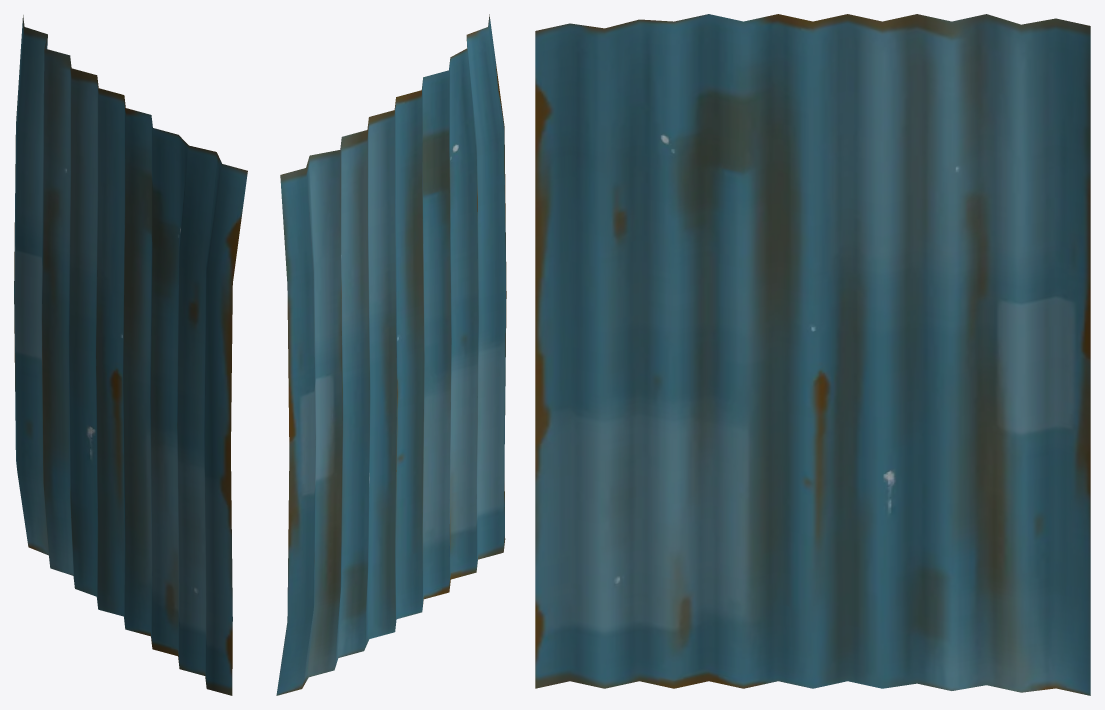
The picture shows the model from 3 angles, left to right: view 1: azimuth 30°, elevation 25°; view 2: azimuth 150°, elevation 25°; view 3: azimuth 270°, elevation 25°; orthographic projection. The views are drawn at different scales.
Visible parts, largest first — view 1: body0_model0_lod0_mesh0; view 2: body0_model0_lod0_mesh0; view 3: body0_model0_lod0_mesh0.
Boxes of the visible parts, left/top/right/bottom form: body0_model0_lod0_mesh0: left=14, top=15, right=247, bottom=695; body0_model0_lod0_mesh0: left=276, top=14, right=506, bottom=695; body0_model0_lod0_mesh0: left=535, top=14, right=1090, bottom=695.
Bounding box in the file's own units: 7.51 × 128 × 96.83.
1 material, 1 textured.
